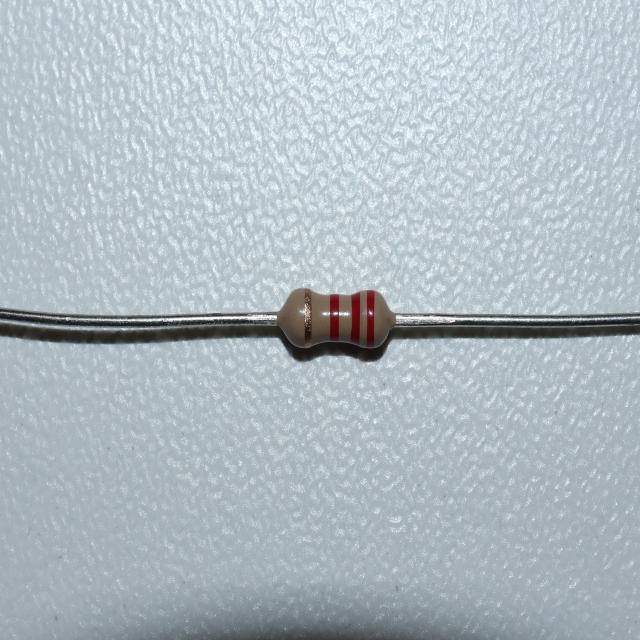resistor: (282, 285, 390, 352)
